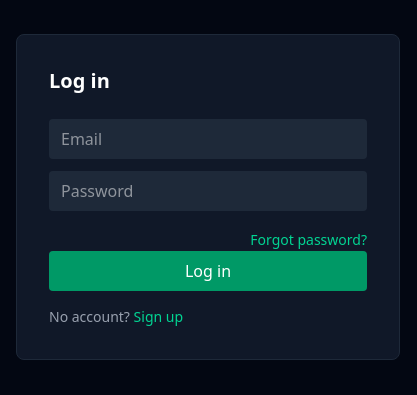
Test: LoginPage › shows the server error message when login fails
Type "test@example.com" into the field with placeholder "Email" at (208, 139), box [49, 119, 367, 159]
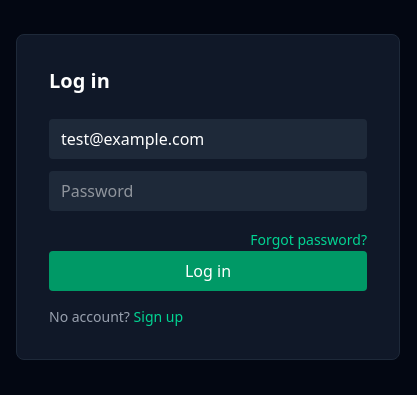
Type "wrongpass" into the password field with placeholder "Password" at (208, 191), box [49, 171, 367, 211]
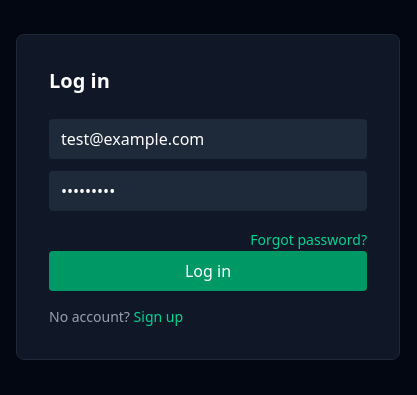
Click the button "Log in" at (208, 271), box [49, 251, 367, 291]
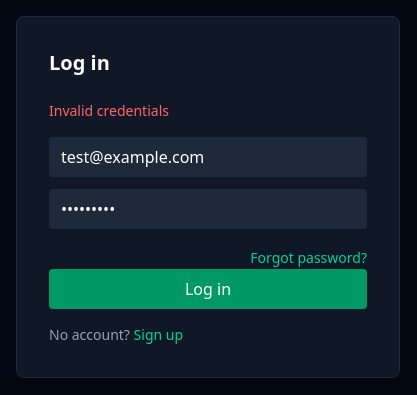
Now the text "Invalid credentials" is shown, box [49, 101, 169, 120]
